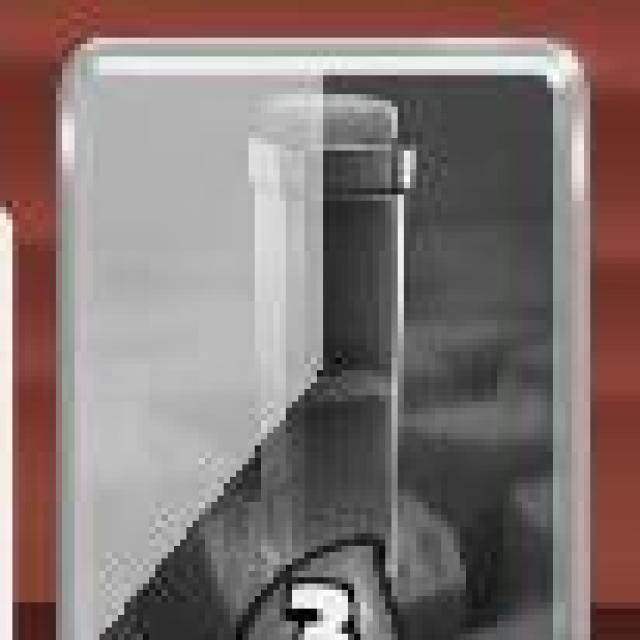Earthquake: (60, 41, 592, 640)
